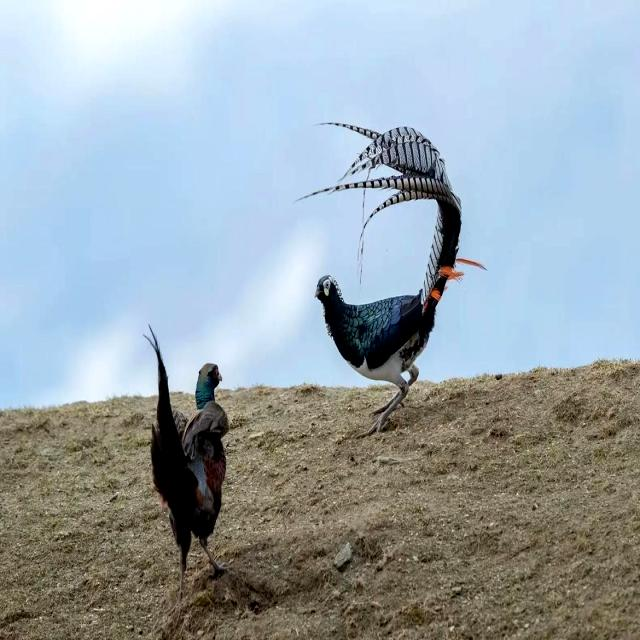Chrysolophus amherstiae: (300, 126, 461, 301)
